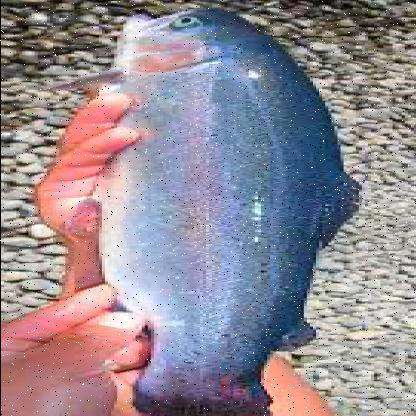fish: (69, 9, 371, 415)
